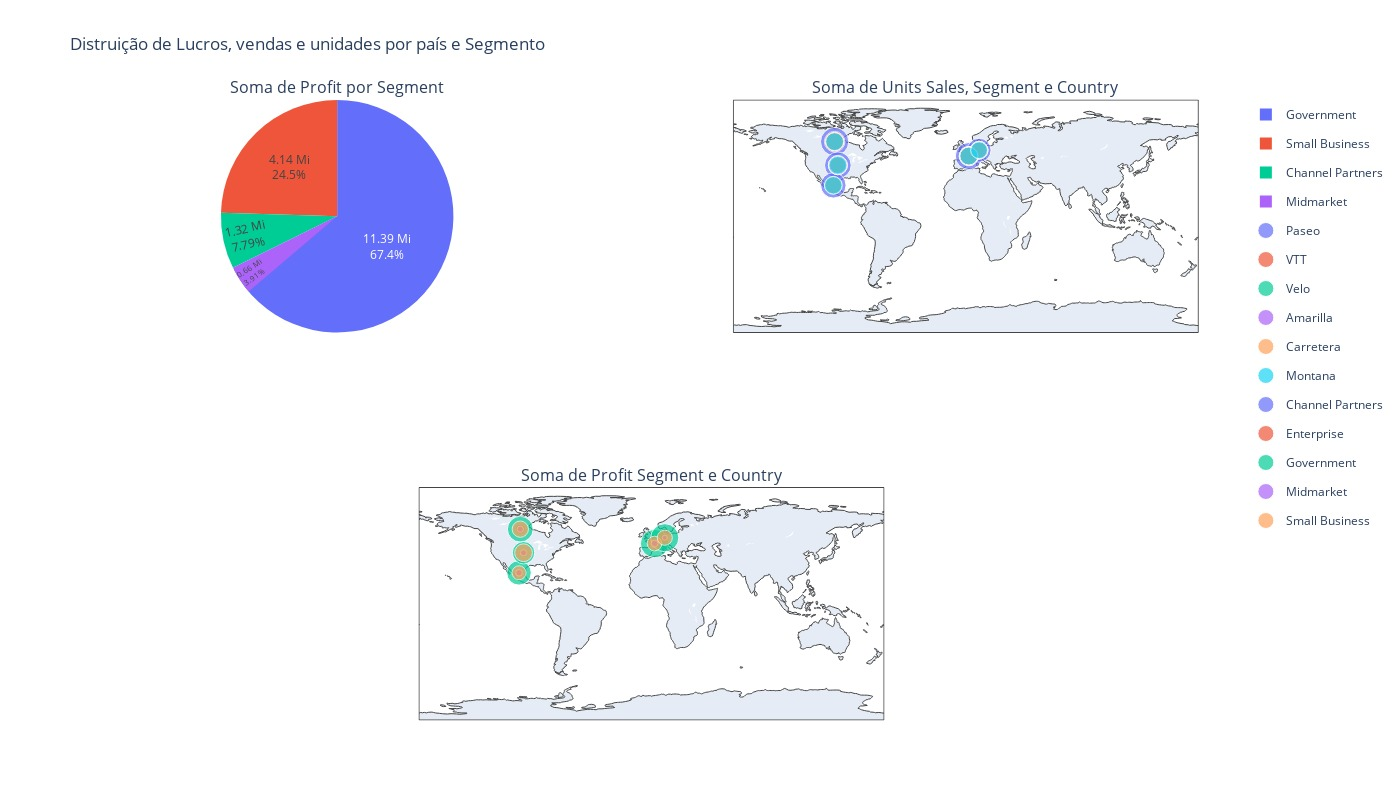

The page's visual inventory and layout, read from the dashboard file:
{"tool":"powerbi","page":{"name":"Página 3","canvas":[1280,720],"ordinal":2},"visuals":[{"type":"map","title":"Unidades Vendidas por Segmento e País","fields":{"Category":["financials.Country"],"Size":["Sum(financials.Sales)"]},"box":[640,80,640,320],"z":1000},{"type":"map","title":"Lucro por País","fields":{"Category":["financials.Country"],"Size":["Sum(financials.Profit)"]},"box":[640,400,640,320],"z":2000},{"type":"textbox","box":[0,0,1280,80],"z":3000},{"type":"pieChart","title":"Lucro por Segmento","fields":{"Category":["financials.Segment"],"Y":["Sum(financials.Profit)"]},"box":[0,176,640,544],"z":4000},{"type":"card","fields":{"Values":["financials.Seletor"]},"box":[0,80,640,96],"z":5000},{"type":"actionButton","box":[24,16,96,40],"z":5001}]}

Visuals, with their boxes in screenshot pixels (x1, y1, x2, y2), scaled from the page's 1280x720 canvas onto the 1400x800 screenshot:
"Unidades Vendidas por Segmento e País" map: [left=700, top=89, right=1399, bottom=444]
"Lucro por País" map: [left=700, top=444, right=1399, bottom=799]
textbox: [left=0, top=0, right=1399, bottom=89]
"Lucro por Segmento" pieChart: [left=0, top=196, right=700, bottom=799]
card - financials.Seletor: [left=0, top=89, right=700, bottom=196]
actionButton: [left=26, top=18, right=131, bottom=62]
